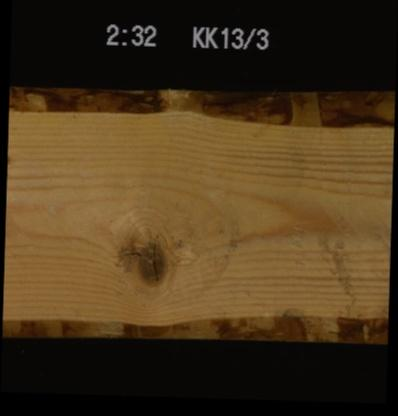sound_knot: (133, 234, 170, 284)
split: (104, 242, 153, 263)
wave: (8, 84, 394, 127), (1, 306, 387, 342)
